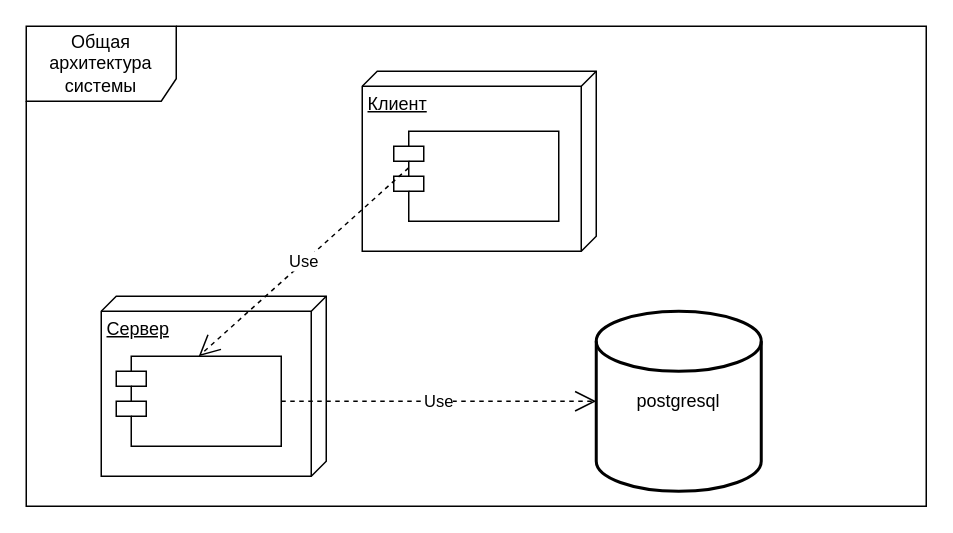
Some shapes in this 953 by 533 pixel diagram are drawn without their labels. Each missing label, with the centre of its shape:
ASP .NET Core: point (198, 400)
Веб приложение на ReactJS: point (475, 175)
